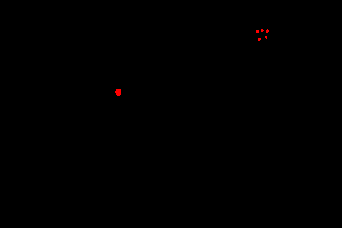Target: (115, 89, 121, 96), (266, 29, 269, 33), (261, 29, 264, 32), (256, 30, 259, 33), (258, 38, 261, 41), (265, 36, 267, 39)
